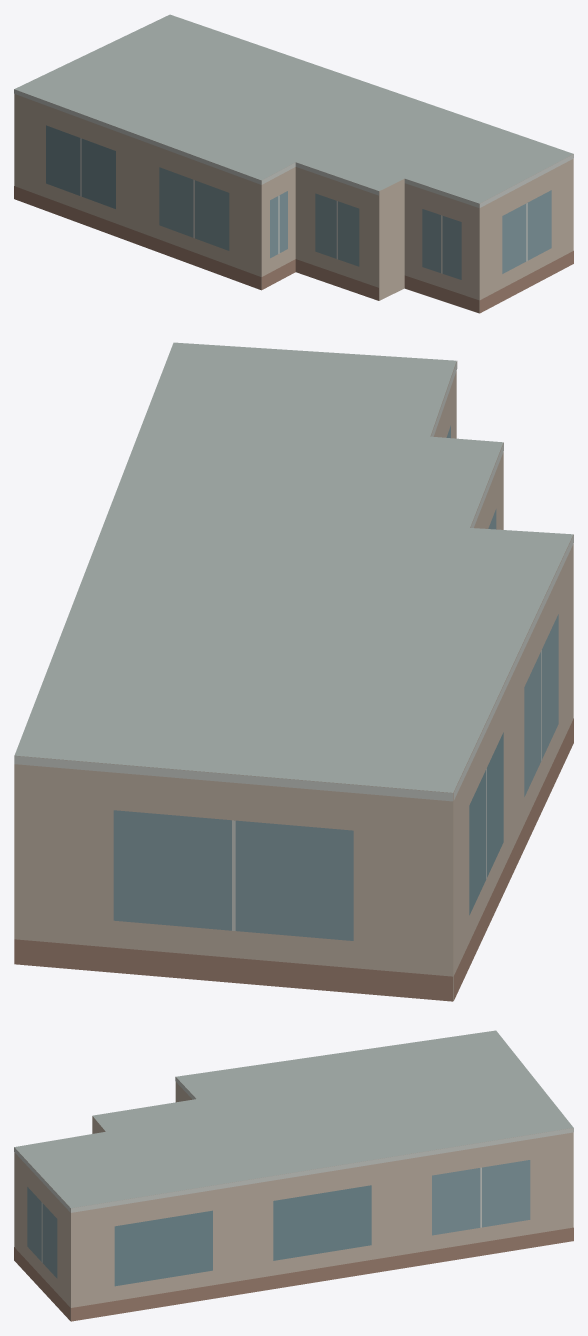
File: survey-upis-32629806.glb
3 renders of one model, top to bottom at view 1: azimuth 30°, elevation 25°; view 2: azimuth 150°, elevation 25°; view 3: azimuth 270°, elevation 25°, orthographic. The views are drawn at different scales.
Parts seen in each view (by area): view 1: survey-upis-32629806.tmp; view 2: survey-upis-32629806.tmp; view 3: survey-upis-32629806.tmp.
Part boxes in pixels (bbox=[...]): survey-upis-32629806.tmp: bbox=[14, 14, 573, 313]; survey-upis-32629806.tmp: bbox=[14, 342, 573, 1001]; survey-upis-32629806.tmp: bbox=[14, 1030, 573, 1321].
Size of the model in its own units: 10.29 by 3.05 by 13.67.
